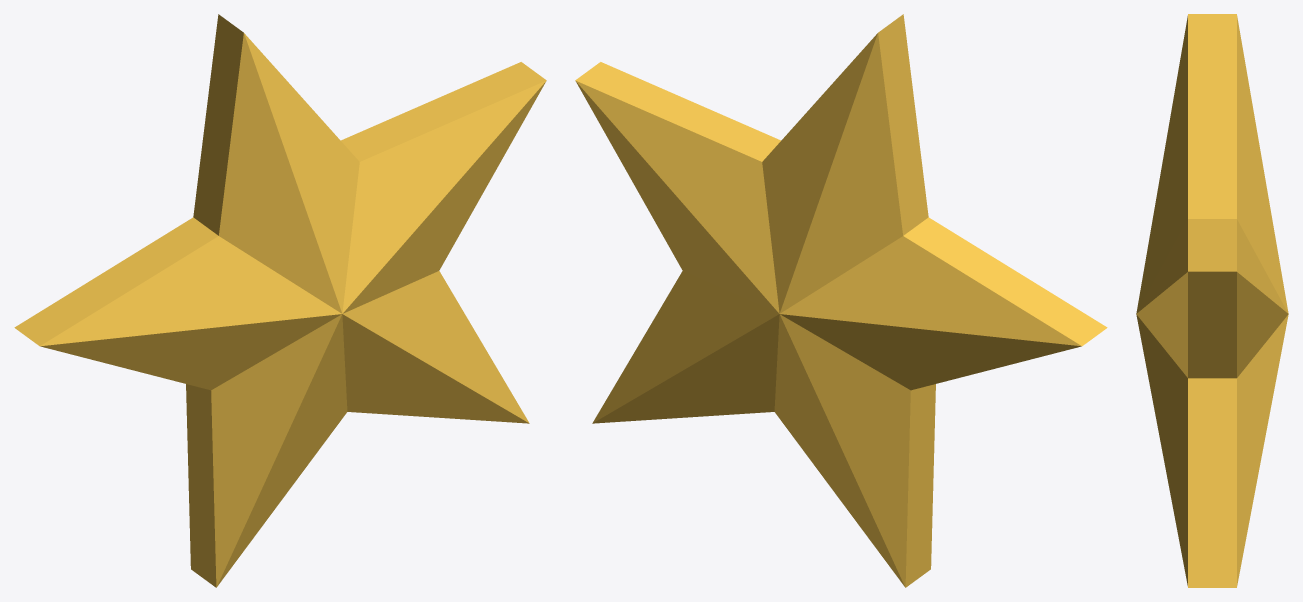
File: star.glb
The picture shows the model from 3 angles, left to right: view 1: azimuth 30°, elevation 25°; view 2: azimuth 150°, elevation 25°; view 3: azimuth 270°, elevation 25°; orthographic projection. The views are drawn at different scales.
Bounding box in the file's own units: 5.51 × 5.7 × 1.5.
